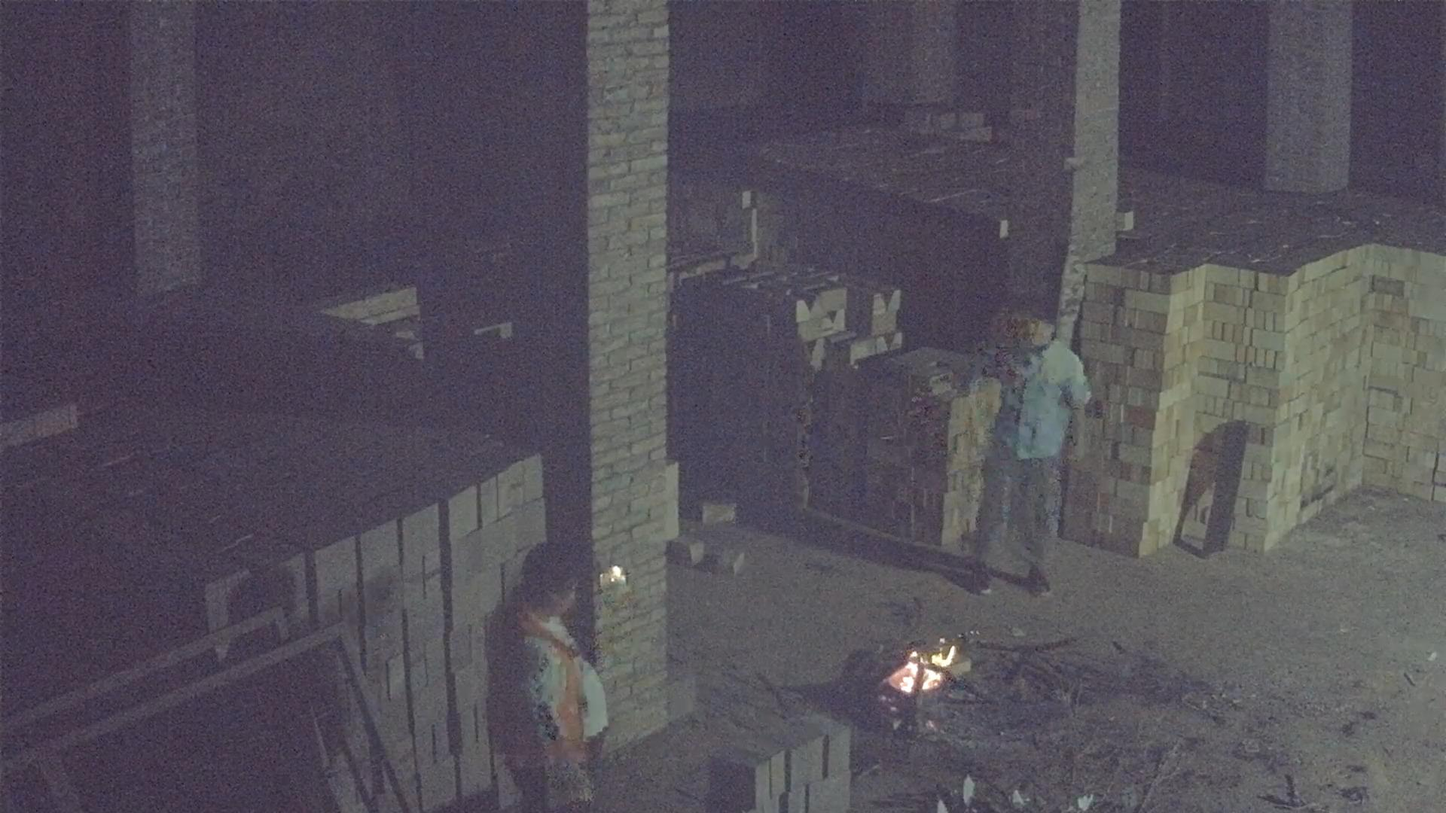fire: (887, 636, 971, 695)
